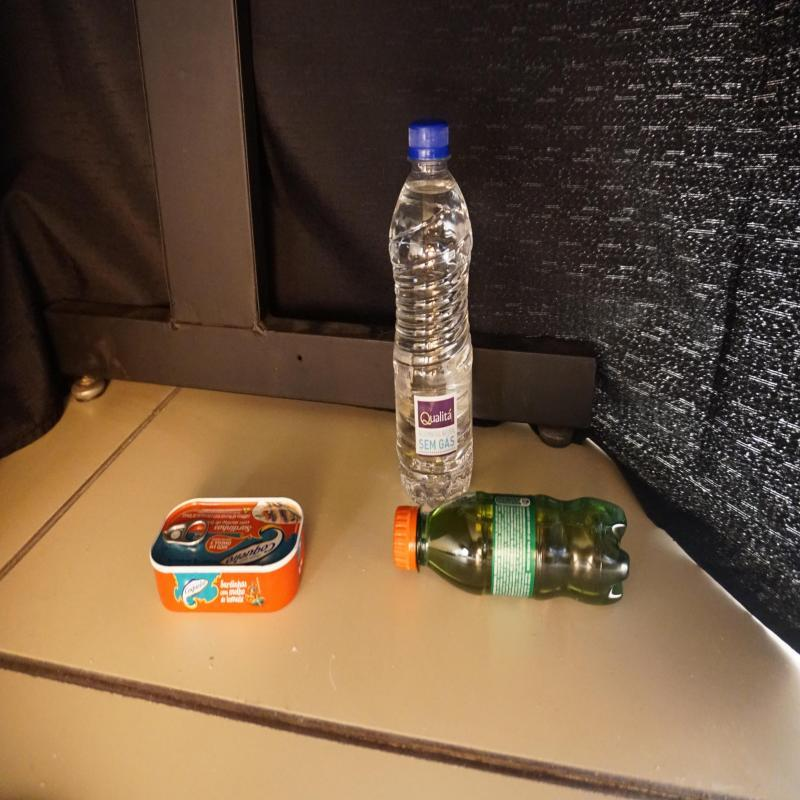Guarana: (393, 492, 630, 606)
TunaCan: (149, 497, 306, 614)
Water: (388, 121, 475, 516)
